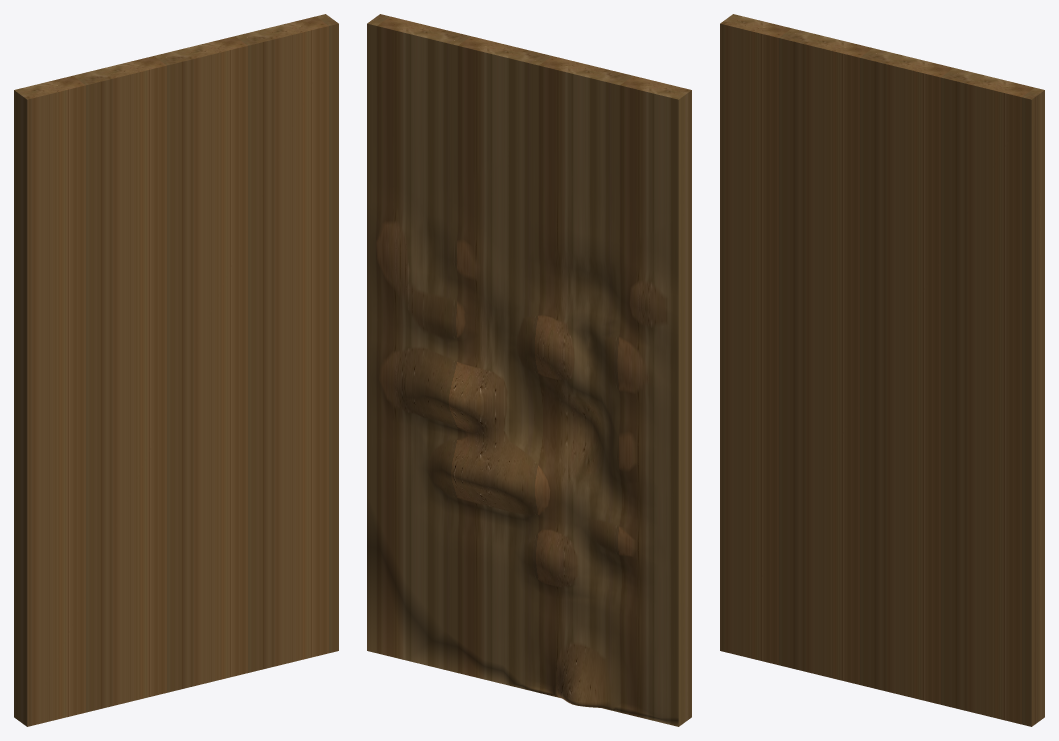
Rendered from soil_link.DAE.
3 renders of one model, left to right at view 1: azimuth 30°, elevation 25°; view 2: azimuth 150°, elevation 25°; view 3: azimuth 330°, elevation 25°, orthographic.
Visible parts, largest first — view 1: Box001; view 2: Box001; view 3: Box001.
Boxes of the visible parts, x1,y1,x2,y2 form: Box001: (14,14,338,726); Box001: (367,14,691,726); Box001: (720,14,1044,726).
Bounding box in the file's own units: 3.85 × 0.4965 × 7.4.
